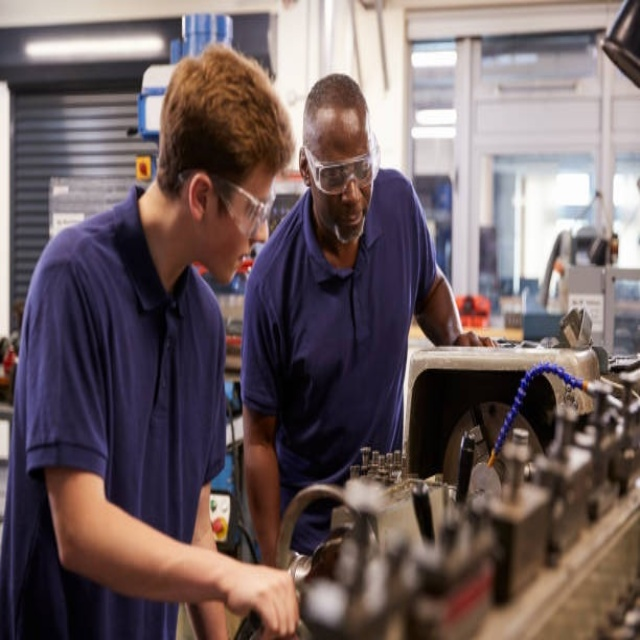Gafas: (191, 172, 276, 241), (304, 129, 379, 196)
Sin_guantes: (232, 563, 304, 639)
Sin_mascara: (219, 240, 260, 284), (335, 202, 368, 234)
